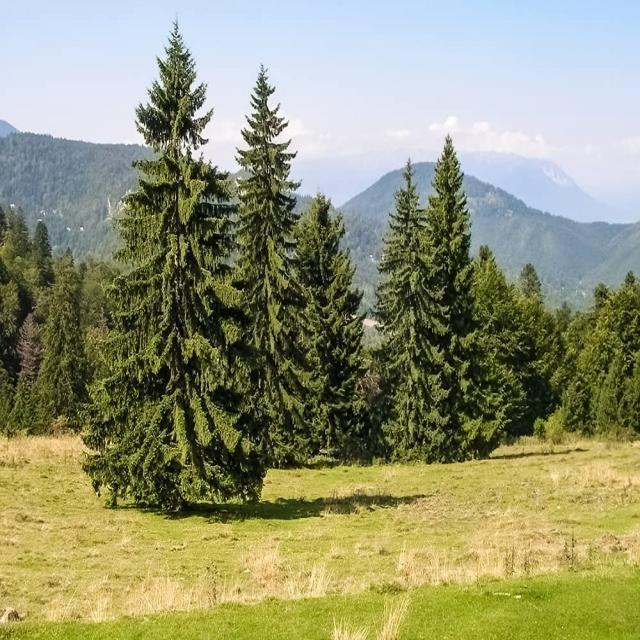tree: (87, 19, 269, 508), (231, 67, 333, 460), (374, 154, 450, 458), (434, 146, 492, 447), (298, 199, 368, 439), (29, 258, 86, 426), (514, 260, 540, 320)
